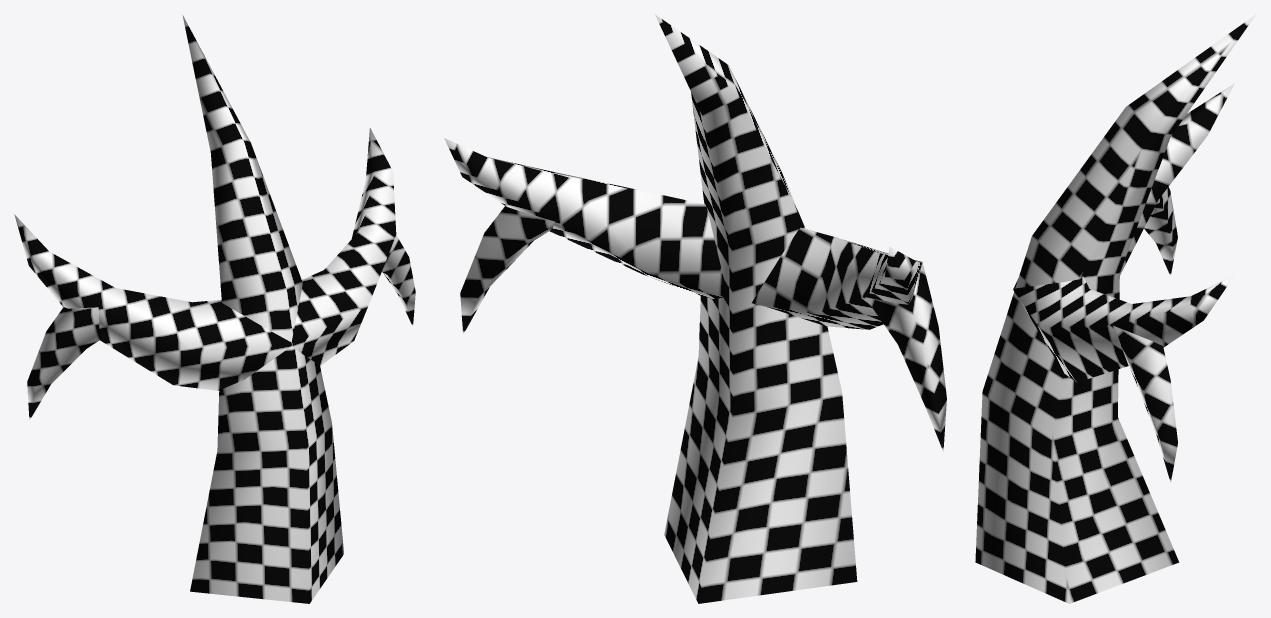
The model's file is stwa6.dae.
The picture shows the model from 3 angles, left to right: view 1: azimuth 30°, elevation 25°; view 2: azimuth 150°, elevation 25°; view 3: azimuth 270°, elevation 25°; orthographic projection. The views are drawn at different scales.
Parts seen in each view (by area): view 1: fence1; view 2: fence1; view 3: fence1.
Part boxes in pixels (bbox=[...]): fence1: bbox=[14, 15, 415, 603]; fence1: bbox=[444, 14, 946, 603]; fence1: bbox=[975, 14, 1255, 603].
Bounding box in the file's own units: 1.77 × 1.02 × 2.19.
Materials: 1 (1 with a texture image).
